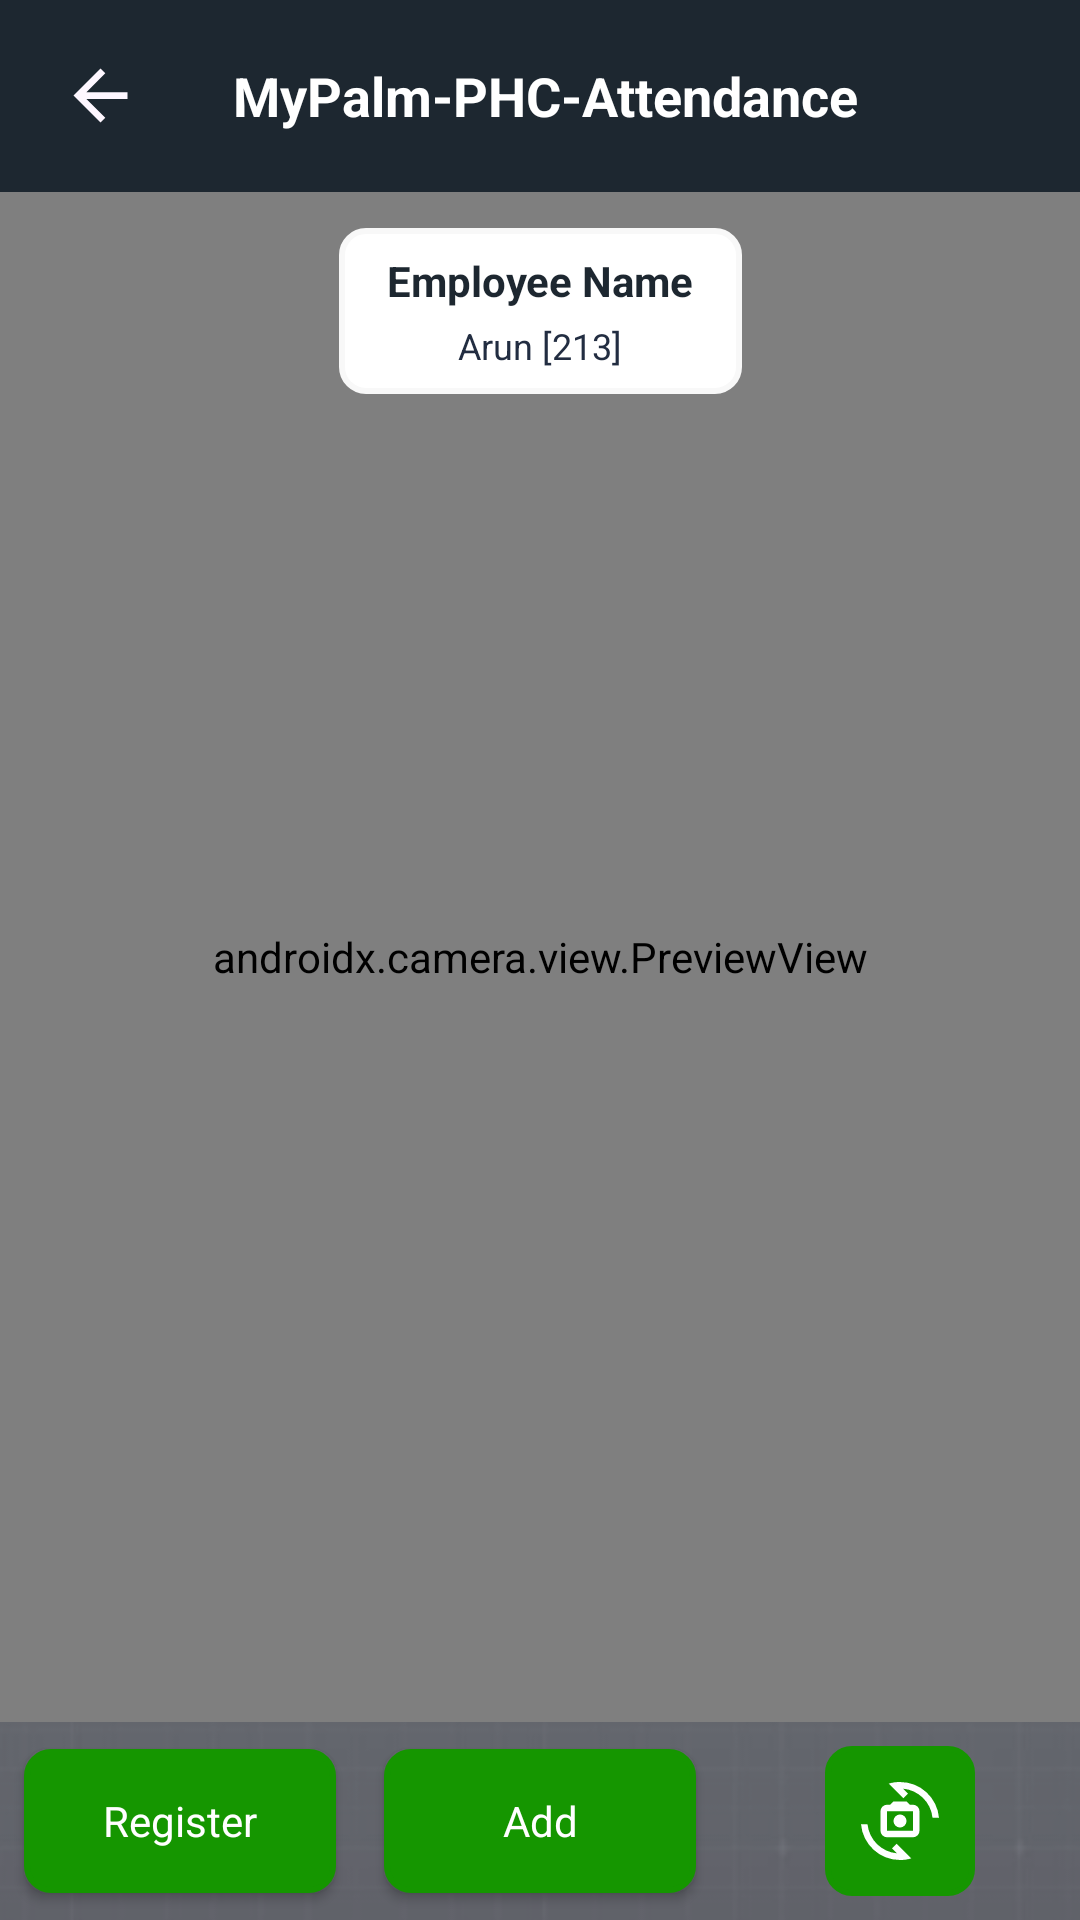

Icon bounding boxes for this 1080*1920 phone screenshot, format [x1,y1,x2,y2]:
arrow back: [73,68,128,123]
camera switch: [825,1746,975,1896]
